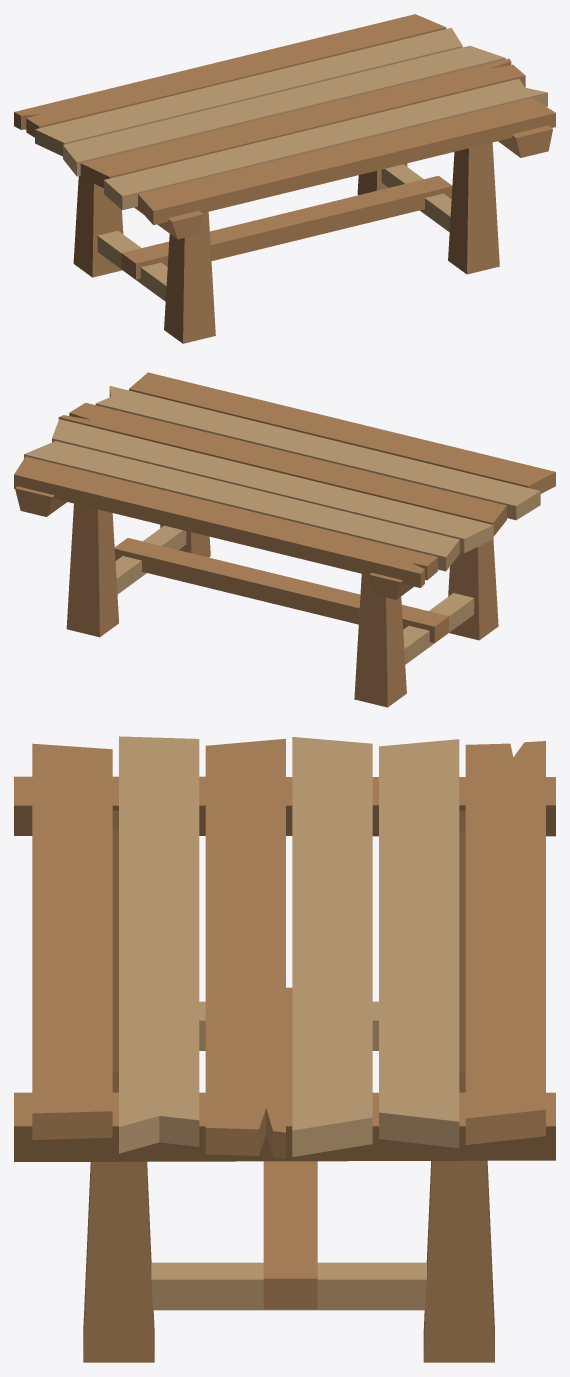
Rendered from table.fbx.
3 renders of one model, top to bottom at view 1: azimuth 30°, elevation 25°; view 2: azimuth 150°, elevation 25°; view 3: azimuth 270°, elevation 25°, orthographic. The views are drawn at different scales.
Visible parts, largest first — view 1: table; view 2: table; view 3: table.
Part boxes in pixels (x1=…): table: x1=14, y1=14, x2=555, y2=343; table: x1=14, y1=372, x2=555, y2=707; table: x1=14, y1=736, x2=555, y2=1362.
Bounding box in the file's own units: 319 × 108 × 184.
